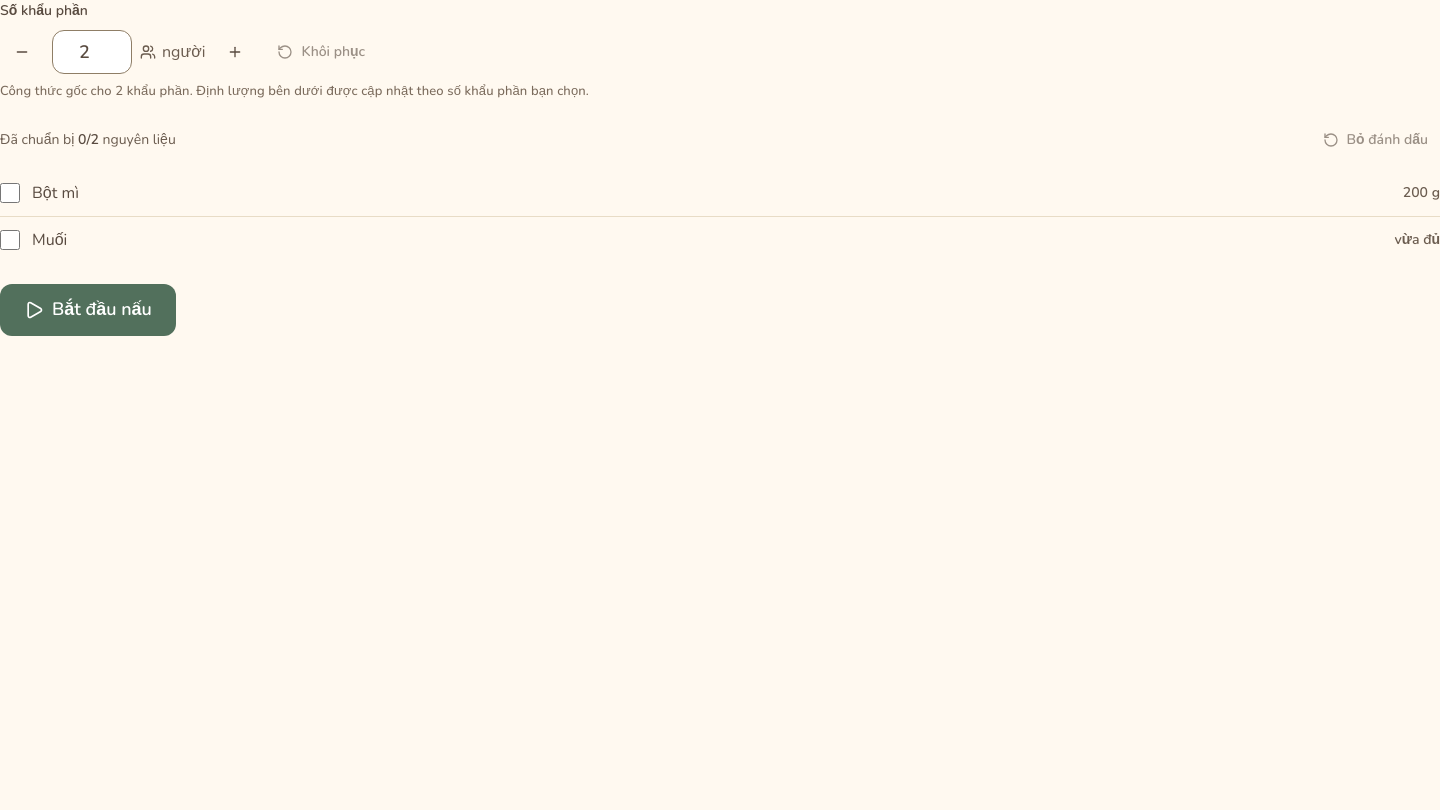
Scenario: P09 — CookingExperience (tích hợp) › mở chế độ nấu và chuyển bước
The image size is (1440, 810).
Click the button "Bắt đầu nấu": (88, 310) top-left (0, 284), bottom-right (176, 336)
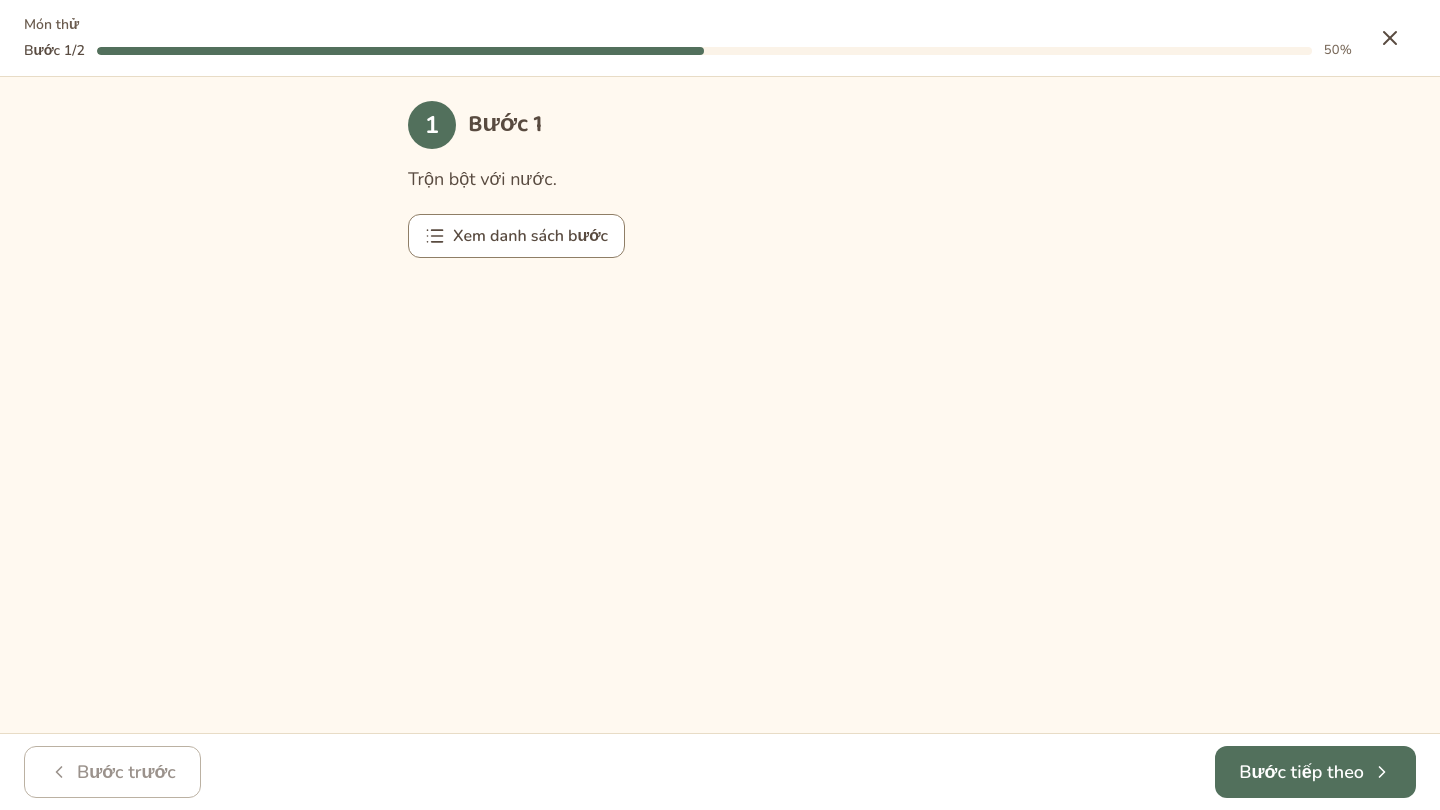
Check: the dialog named "Chế độ nấu: Món thử" is shown
Check: the text "Bước 1/2" is shown, box top-left (24, 40), bottom-right (85, 62)
Click the button "Bước tiếp theo": (1316, 772) top-left (1215, 746), bottom-right (1416, 798)
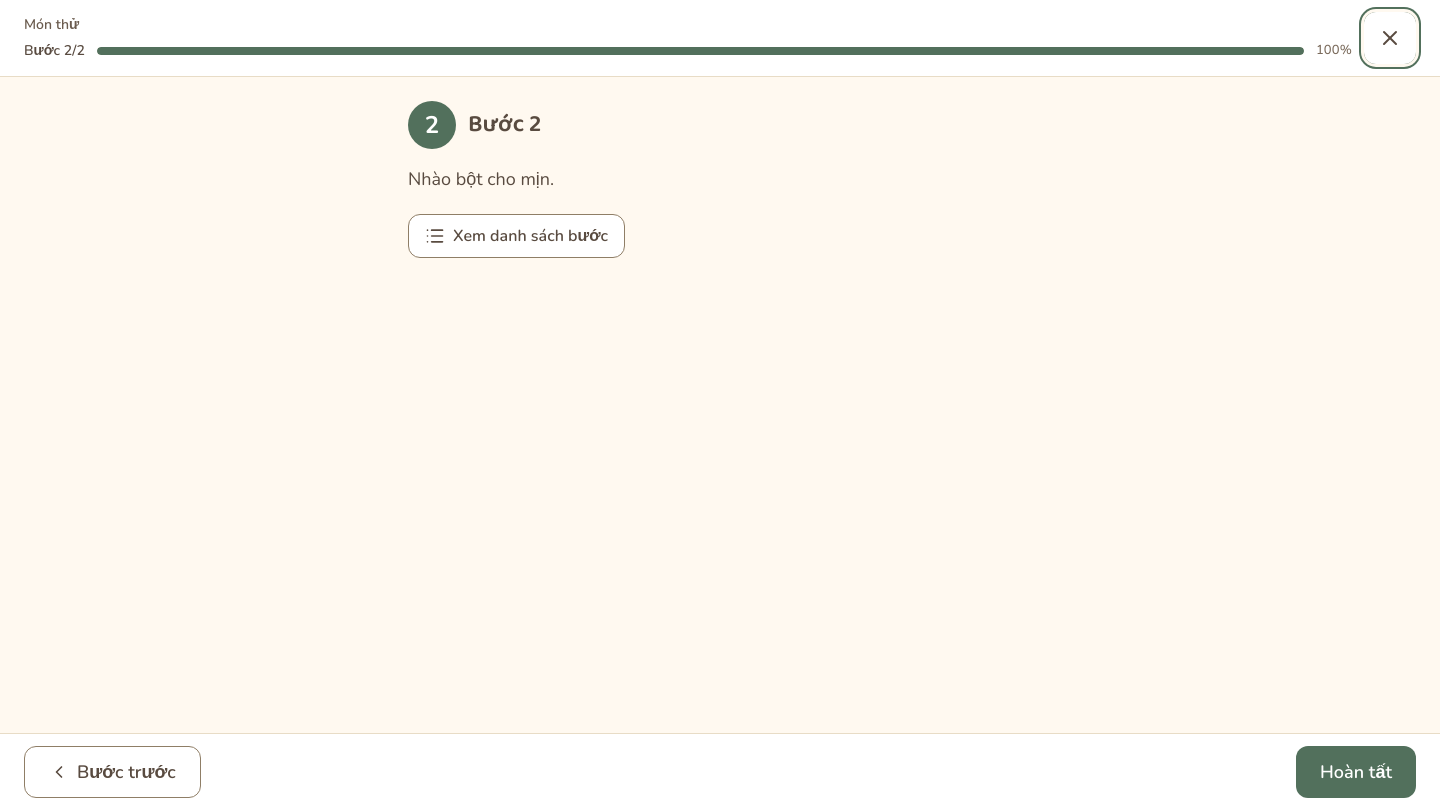
Check: the text "Bước 2/2" is shown, box top-left (24, 40), bottom-right (85, 62)
Check: the button "Hoàn tất" is shown, box top-left (1296, 746), bottom-right (1416, 798)
